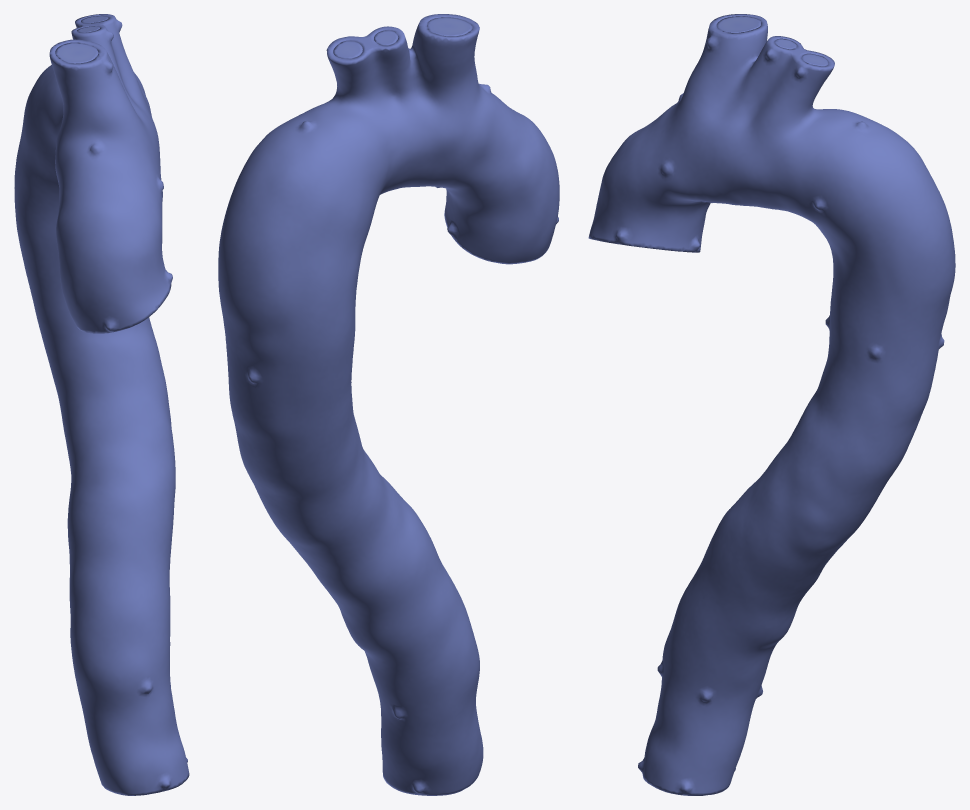
Rendered from dissection_streaklines_anim.glb.
3 renders of one model, left to right at view 1: azimuth 30°, elevation 25°; view 2: azimuth 150°, elevation 25°; view 3: azimuth 270°, elevation 25°, orthographic. The views are drawn at different scales.
Size of the model in its own units: 60.05 by 228 by 103.
